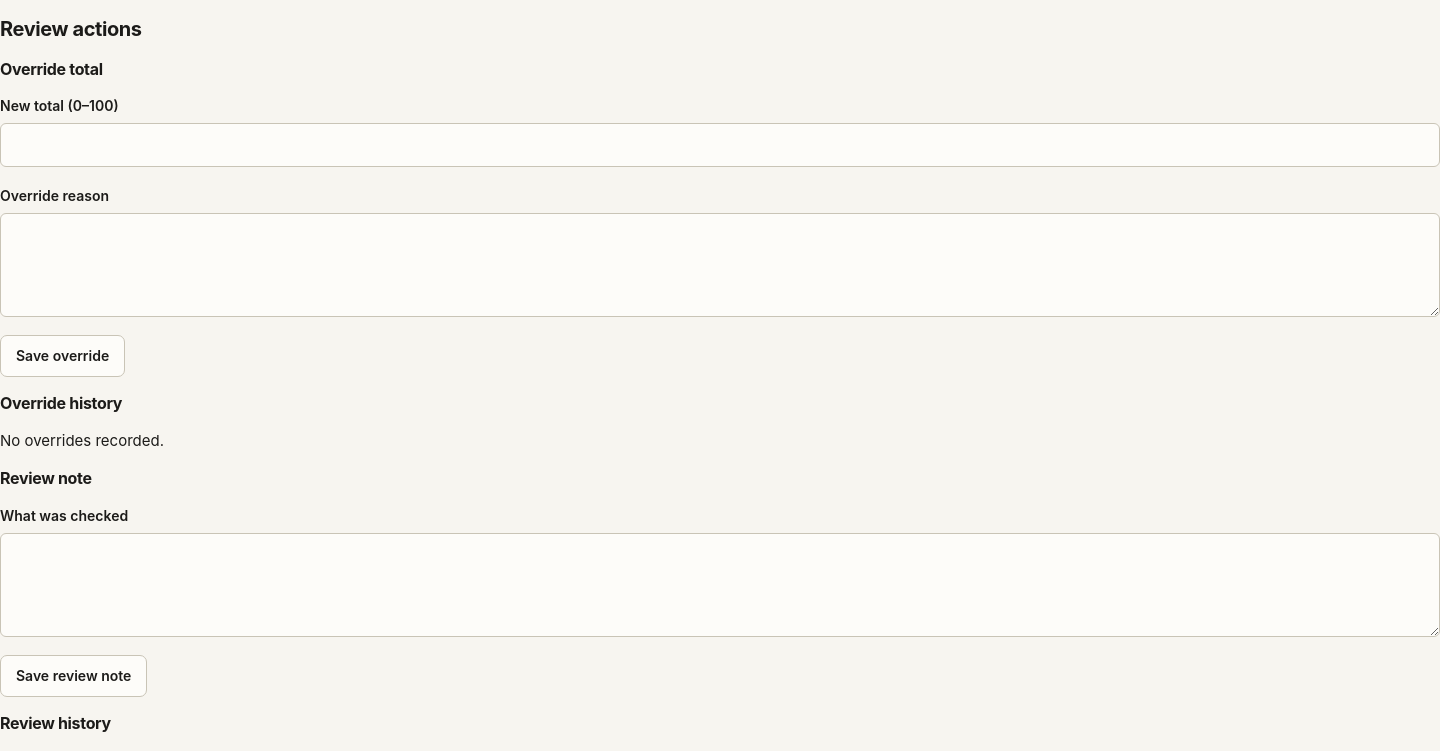
Faculty review actions › retries only the GET when an already-saved override cannot refresh
This screenshot has width=1440, height=751.
Type "80" into the number field labelled "New total (0–100)" at (720, 145), box x1=0 y1=123 x2=1439 y2=167
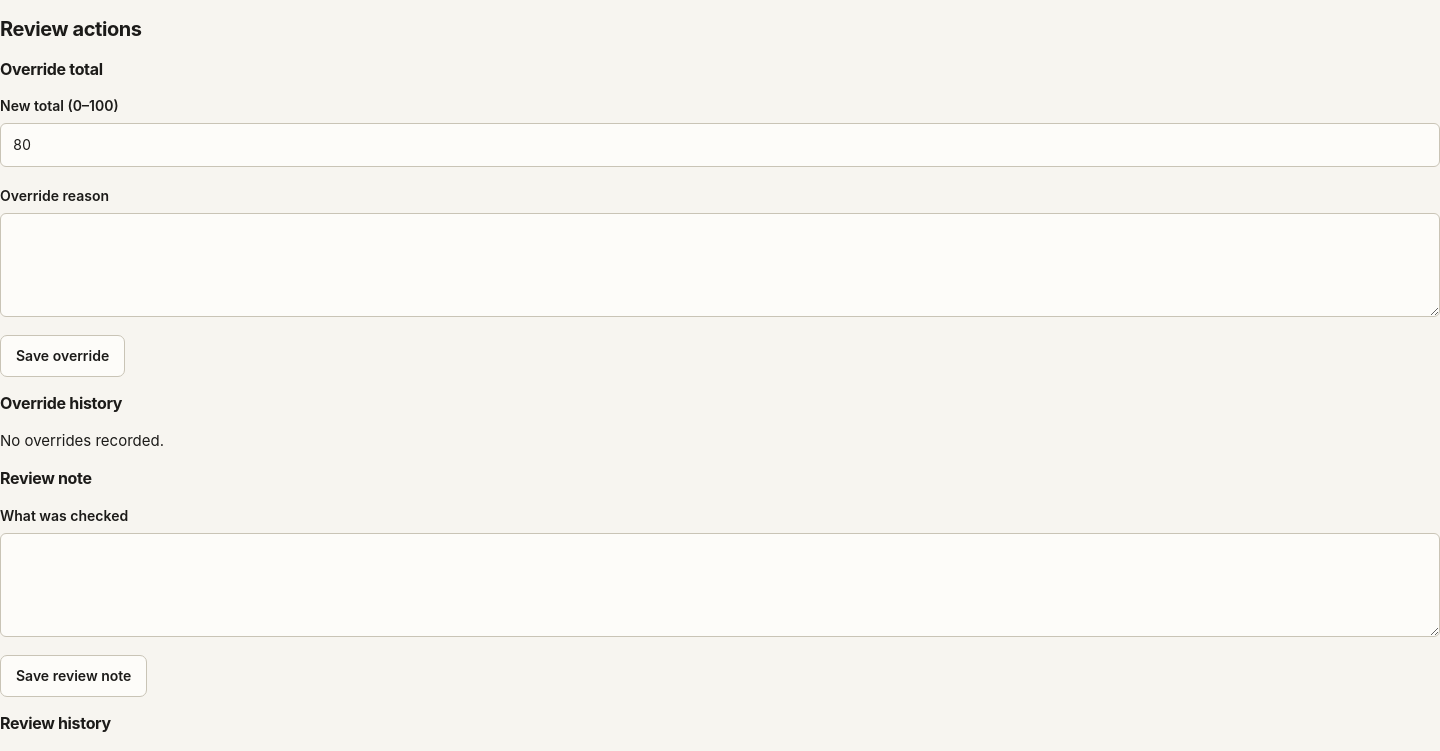
Type "Checked the transcript" into the text box labelled "Override reason" at (720, 265), box x1=0 y1=213 x2=1439 y2=317
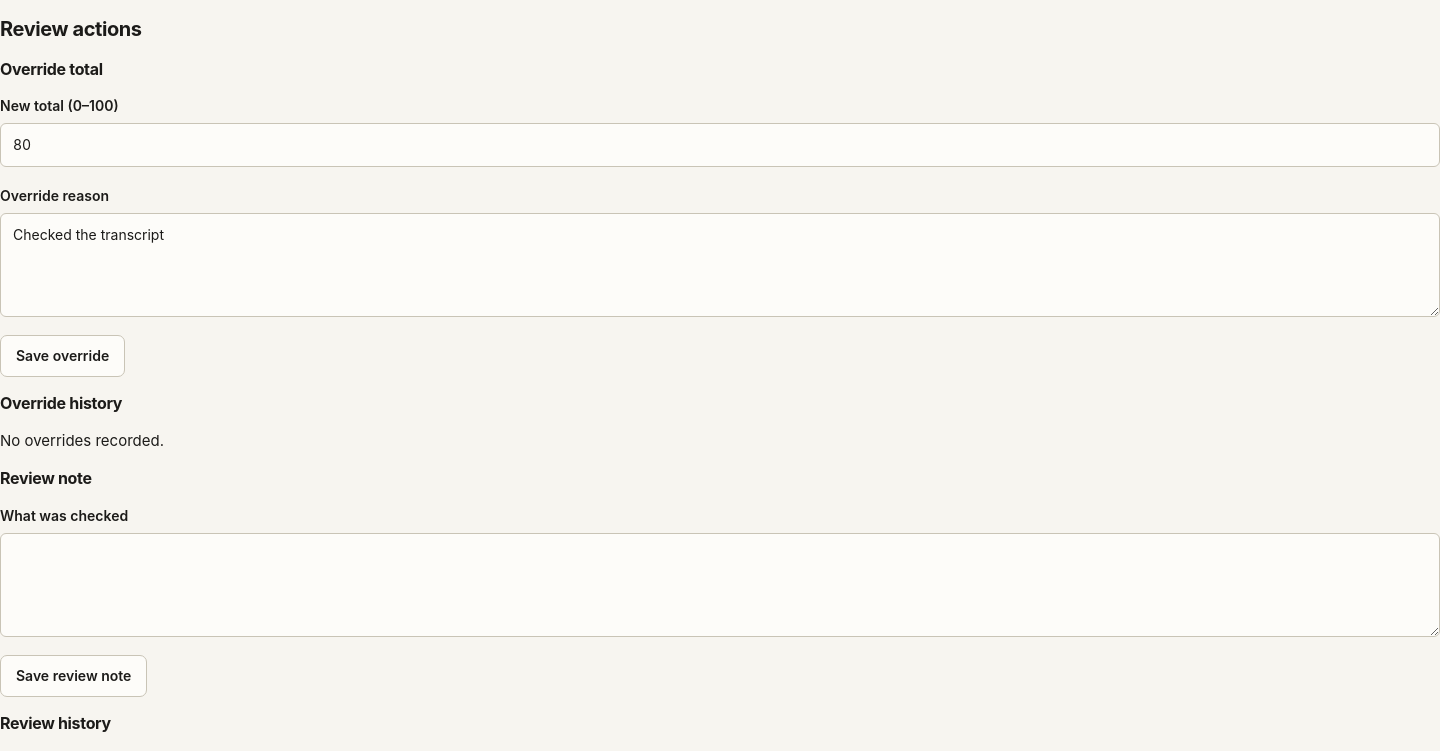
Click the button "Save override" at (63, 356), box x1=0 y1=335 x2=125 y2=377
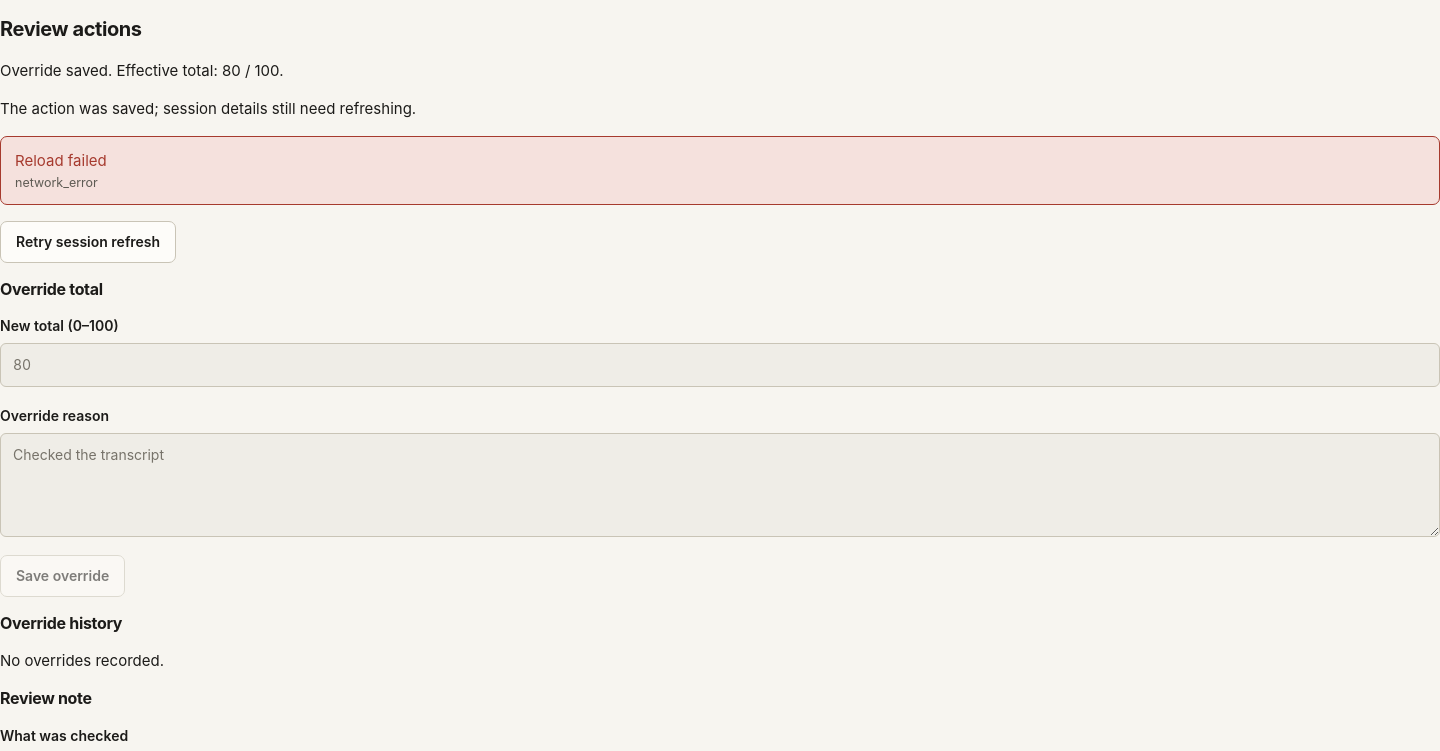
Click the button "Retry session refresh" at (88, 242), box x1=0 y1=221 x2=176 y2=263
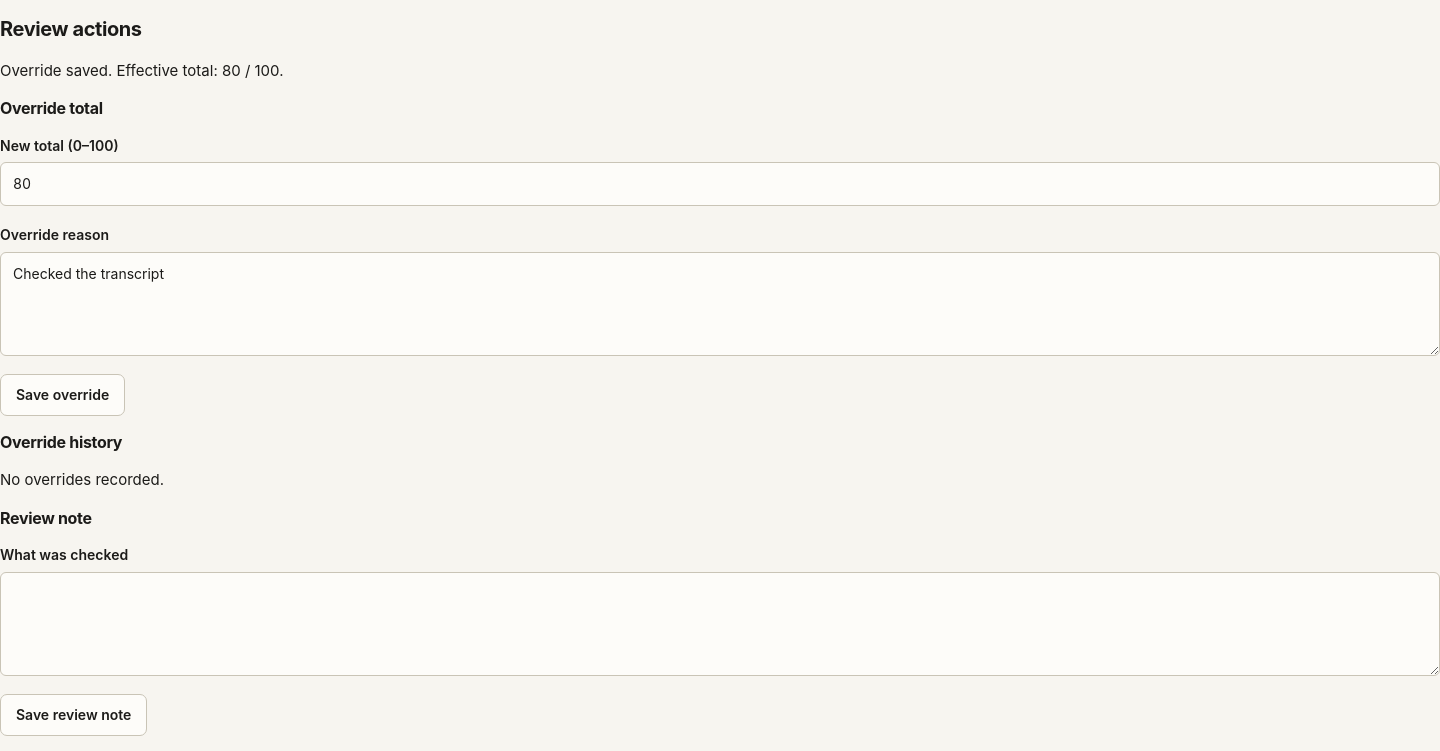
expect the message "Reload failed network_error" is gone: met
